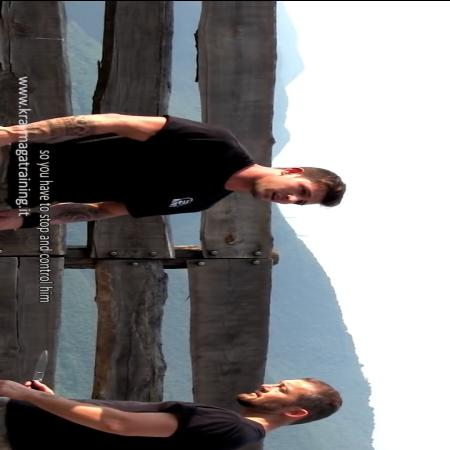long weapon: (22, 344, 54, 392)
